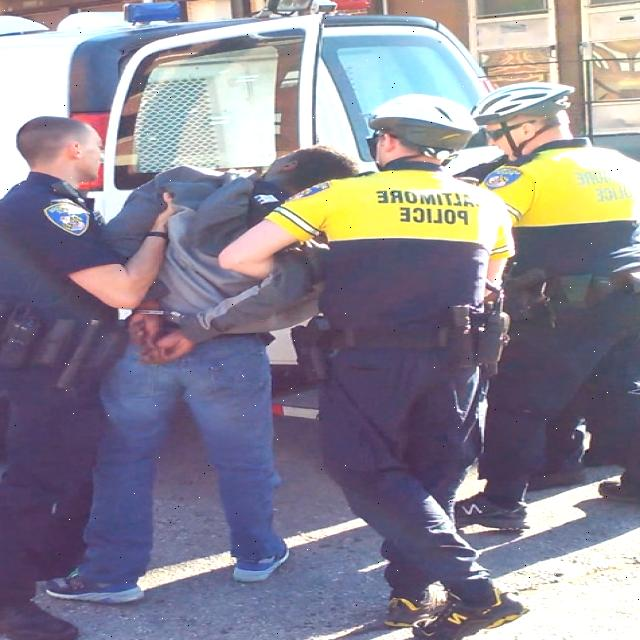police: (288, 88, 520, 631), (1, 106, 167, 640), (464, 71, 640, 536)
